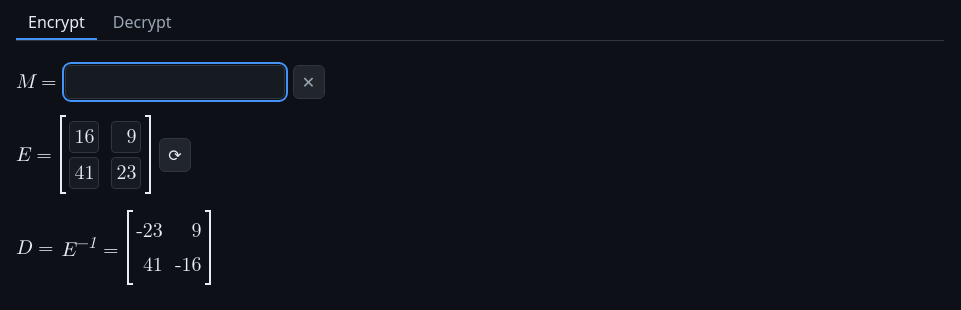
Test: App › flags a singular key
Replace the text in the field named "E row 1 column 1" with "2": coordinates (84, 137) [69,121,99,153]
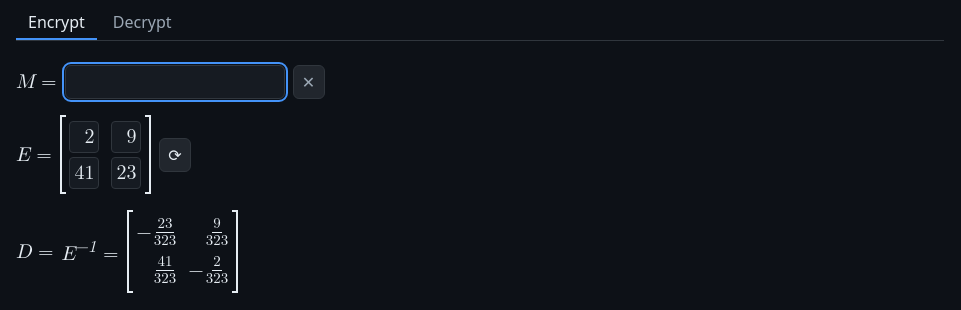
Replace the text in the field named "E row 1 column 2" with "4": coordinates (126, 137) [111,121,141,153]
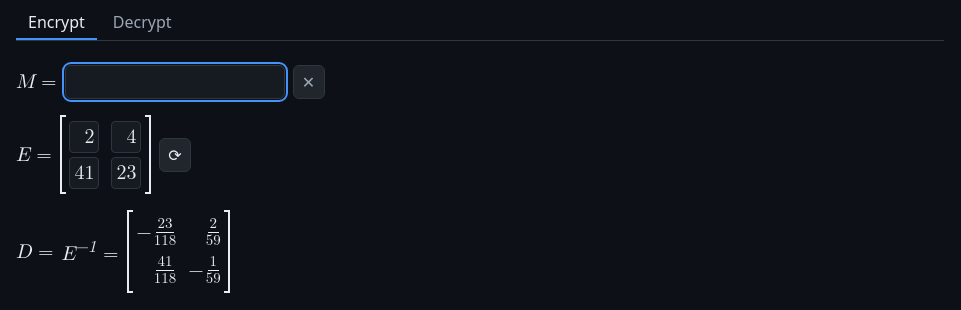
Replace the text in the field named "E row 2 column 1" with "1": coordinates (84, 173) [69,157,99,189]
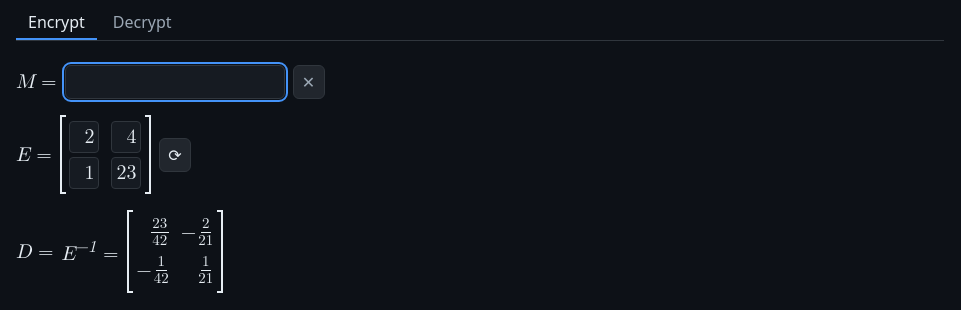
Replace the text in the field named "E row 2 column 2" with "2": coordinates (126, 173) [111,157,141,189]
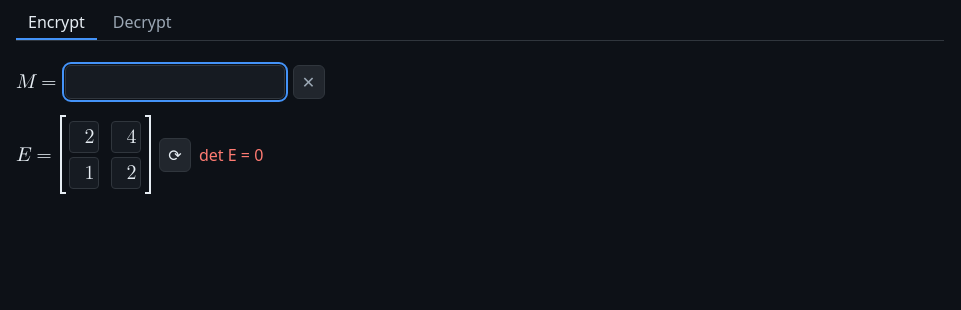
Now the text "det E = 0" is shown, box [199,143,263,167]
